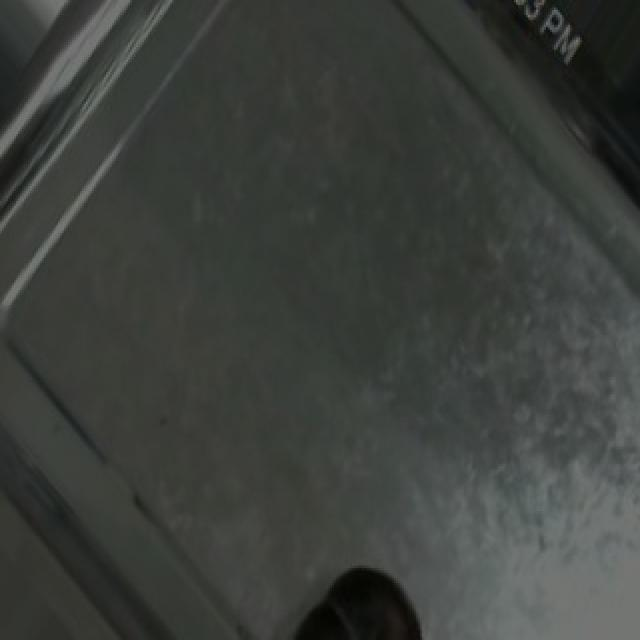Fruit: (280, 550, 440, 640)
